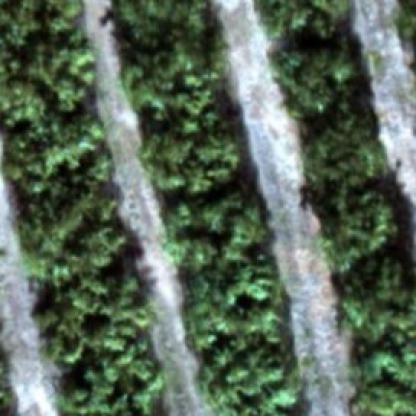Canopy-Citrus: (14, 194, 125, 284), (116, 43, 233, 125), (179, 272, 292, 356), (36, 280, 152, 361), (162, 194, 278, 274), (196, 336, 304, 416), (0, 122, 113, 196), (1, 44, 98, 128), (269, 43, 369, 119), (142, 122, 246, 194), (298, 119, 393, 196), (55, 358, 163, 415), (321, 194, 396, 274), (341, 269, 415, 349), (107, 0, 213, 48), (0, 0, 91, 51), (253, 0, 360, 42), (353, 356, 416, 416)
